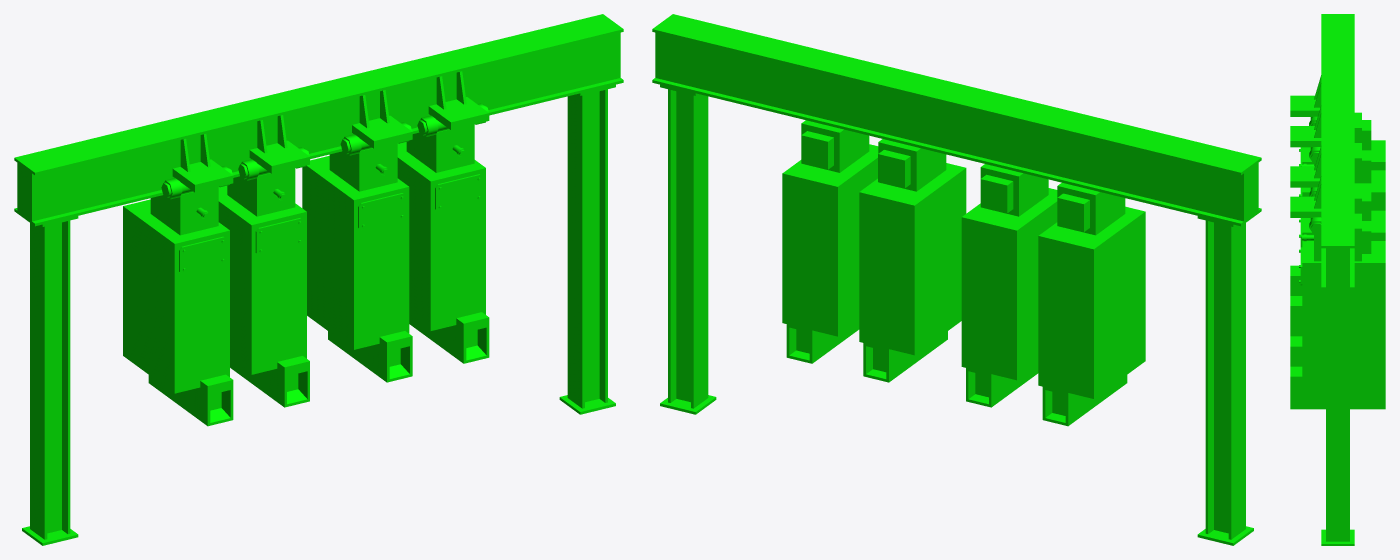
The model's file is Casting_EndMachine.fbx.
3 renders of one model, left to right at view 1: azimuth 30°, elevation 25°; view 2: azimuth 150°, elevation 25°; view 3: azimuth 270°, elevation 25°, orthographic. The views are drawn at different scales.
Visible parts, largest first — view 1: Casting_EndMachine_LOD0; view 2: Casting_EndMachine_LOD0; view 3: Casting_EndMachine_LOD0.
Boxes of the visible parts, left/top/right/bottom form: Casting_EndMachine_LOD0: left=14, top=14, right=623, bottom=545; Casting_EndMachine_LOD0: left=652, top=14, right=1261, bottom=545; Casting_EndMachine_LOD0: left=1290, top=14, right=1385, bottom=545.
Size of what is drawn, in the model's own units: 575 by 350 by 100.
